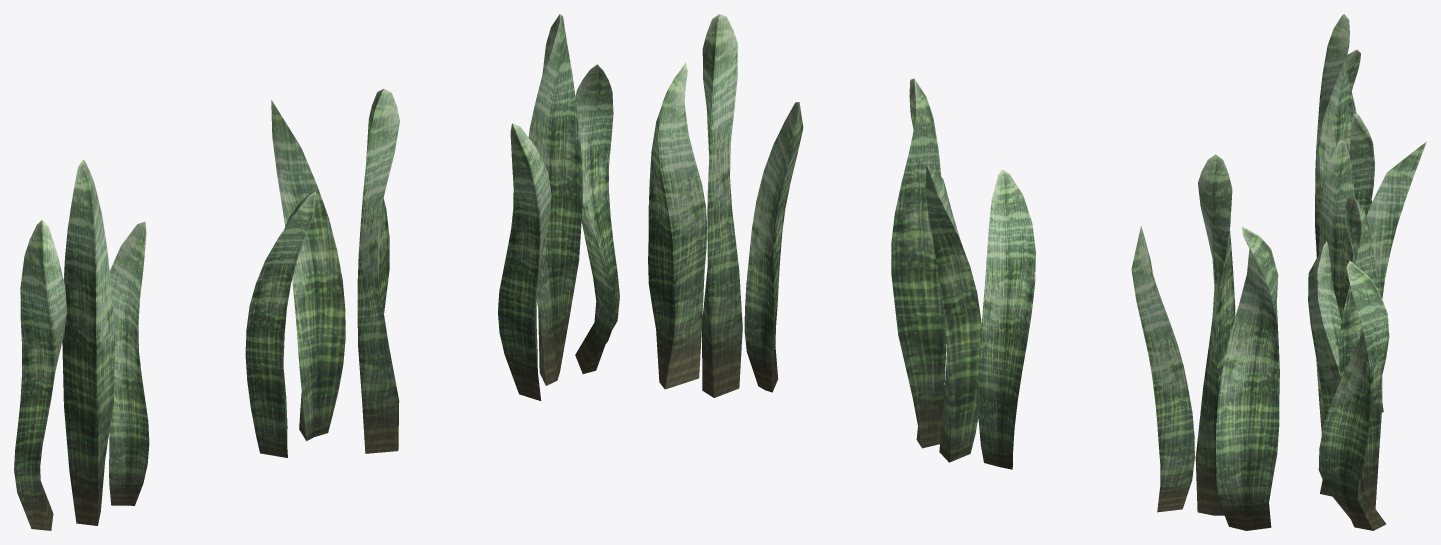
File: D_Plant_011_a.fbx
3 views of the same model, side by side, from view 1: azimuth 30°, elevation 25°; view 2: azimuth 150°, elevation 25°; view 3: azimuth 270°, elevation 25° (orthographic). The views are drawn at different scales.
Visible parts, largest first — view 1: D_Plant_011_a; view 2: D_Plant_011_a; view 3: D_Plant_011_a.
Part boxes in pixels (bbox=[...]): D_Plant_011_a: bbox=[14, 14, 619, 530]; D_Plant_011_a: bbox=[648, 14, 1279, 530]; D_Plant_011_a: bbox=[1308, 14, 1426, 530].
Bounding box in the file's own units: 1.21 × 0.7225 × 0.2369.
1 material, 1 textured.
